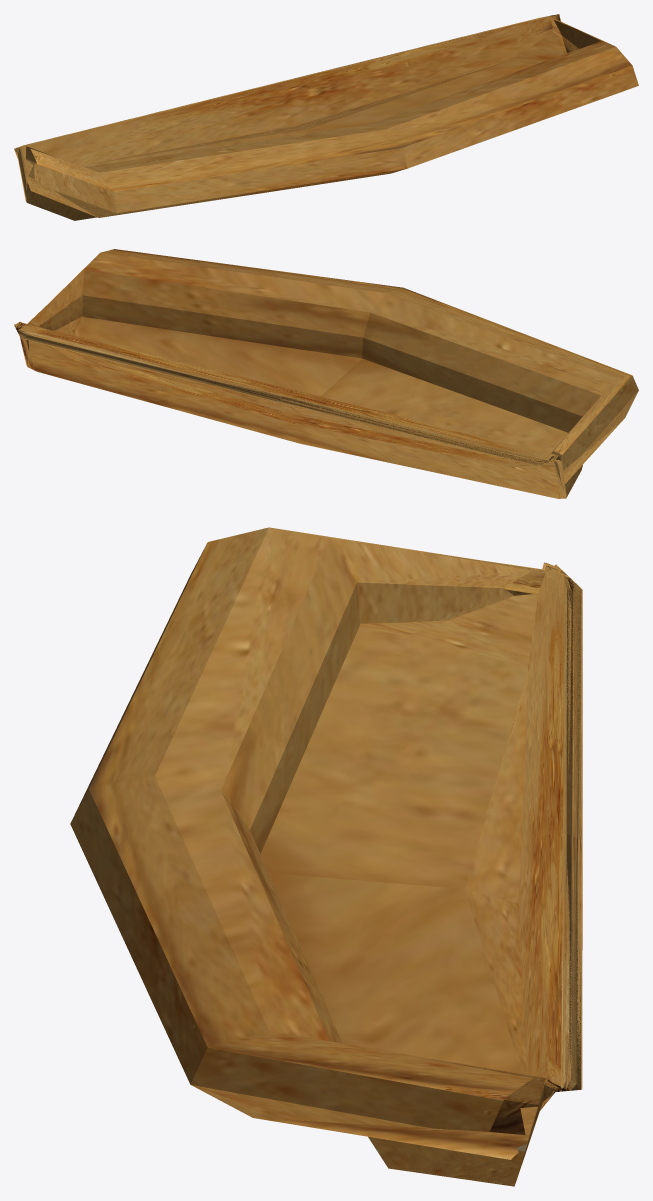
Rendered from sugarpoly4.gltf.
The picture shows the model from 3 angles, top to bottom: view 1: azimuth 30°, elevation 25°; view 2: azimuth 150°, elevation 25°; view 3: azimuth 270°, elevation 25°; orthographic projection. The views are drawn at different scales.
Visible parts, largest first — view 1: 평면; view 2: 평면; view 3: 평면.
Boxes of the visible parts, x1,y1,x2,y2 form: 평면: (14, 14, 638, 220); 평면: (14, 249, 638, 498); 평면: (70, 527, 582, 1186).
Size of the model in its own units: 0.6216 by 0.0947 by 0.2533.
1 material, 1 textured.
